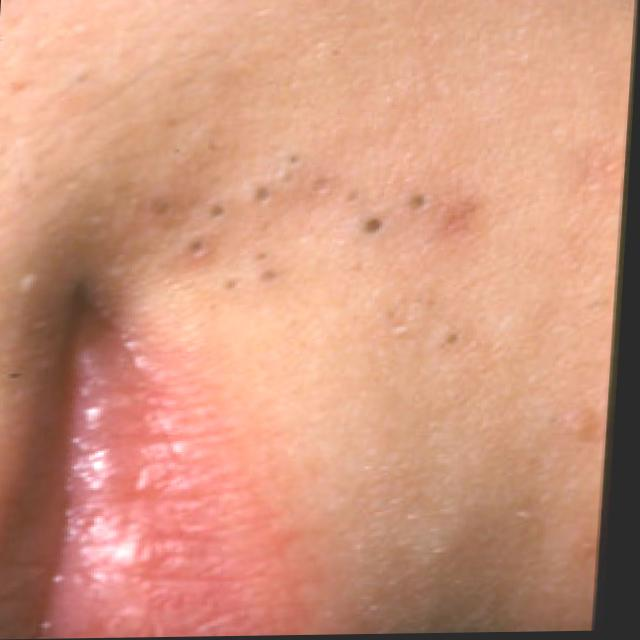blackheads: (440, 197, 472, 226), (151, 194, 179, 222), (436, 328, 469, 350), (187, 236, 215, 259), (360, 214, 387, 237), (260, 266, 284, 290), (212, 198, 232, 220), (403, 194, 434, 208), (252, 186, 275, 202), (314, 181, 333, 197)
